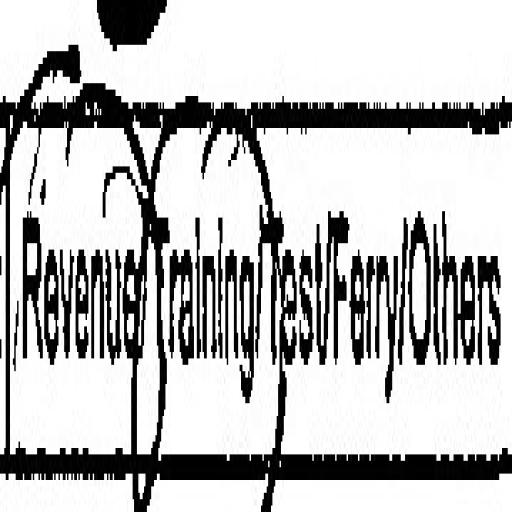check: (5, 5, 140, 512), (146, 0, 260, 512)
